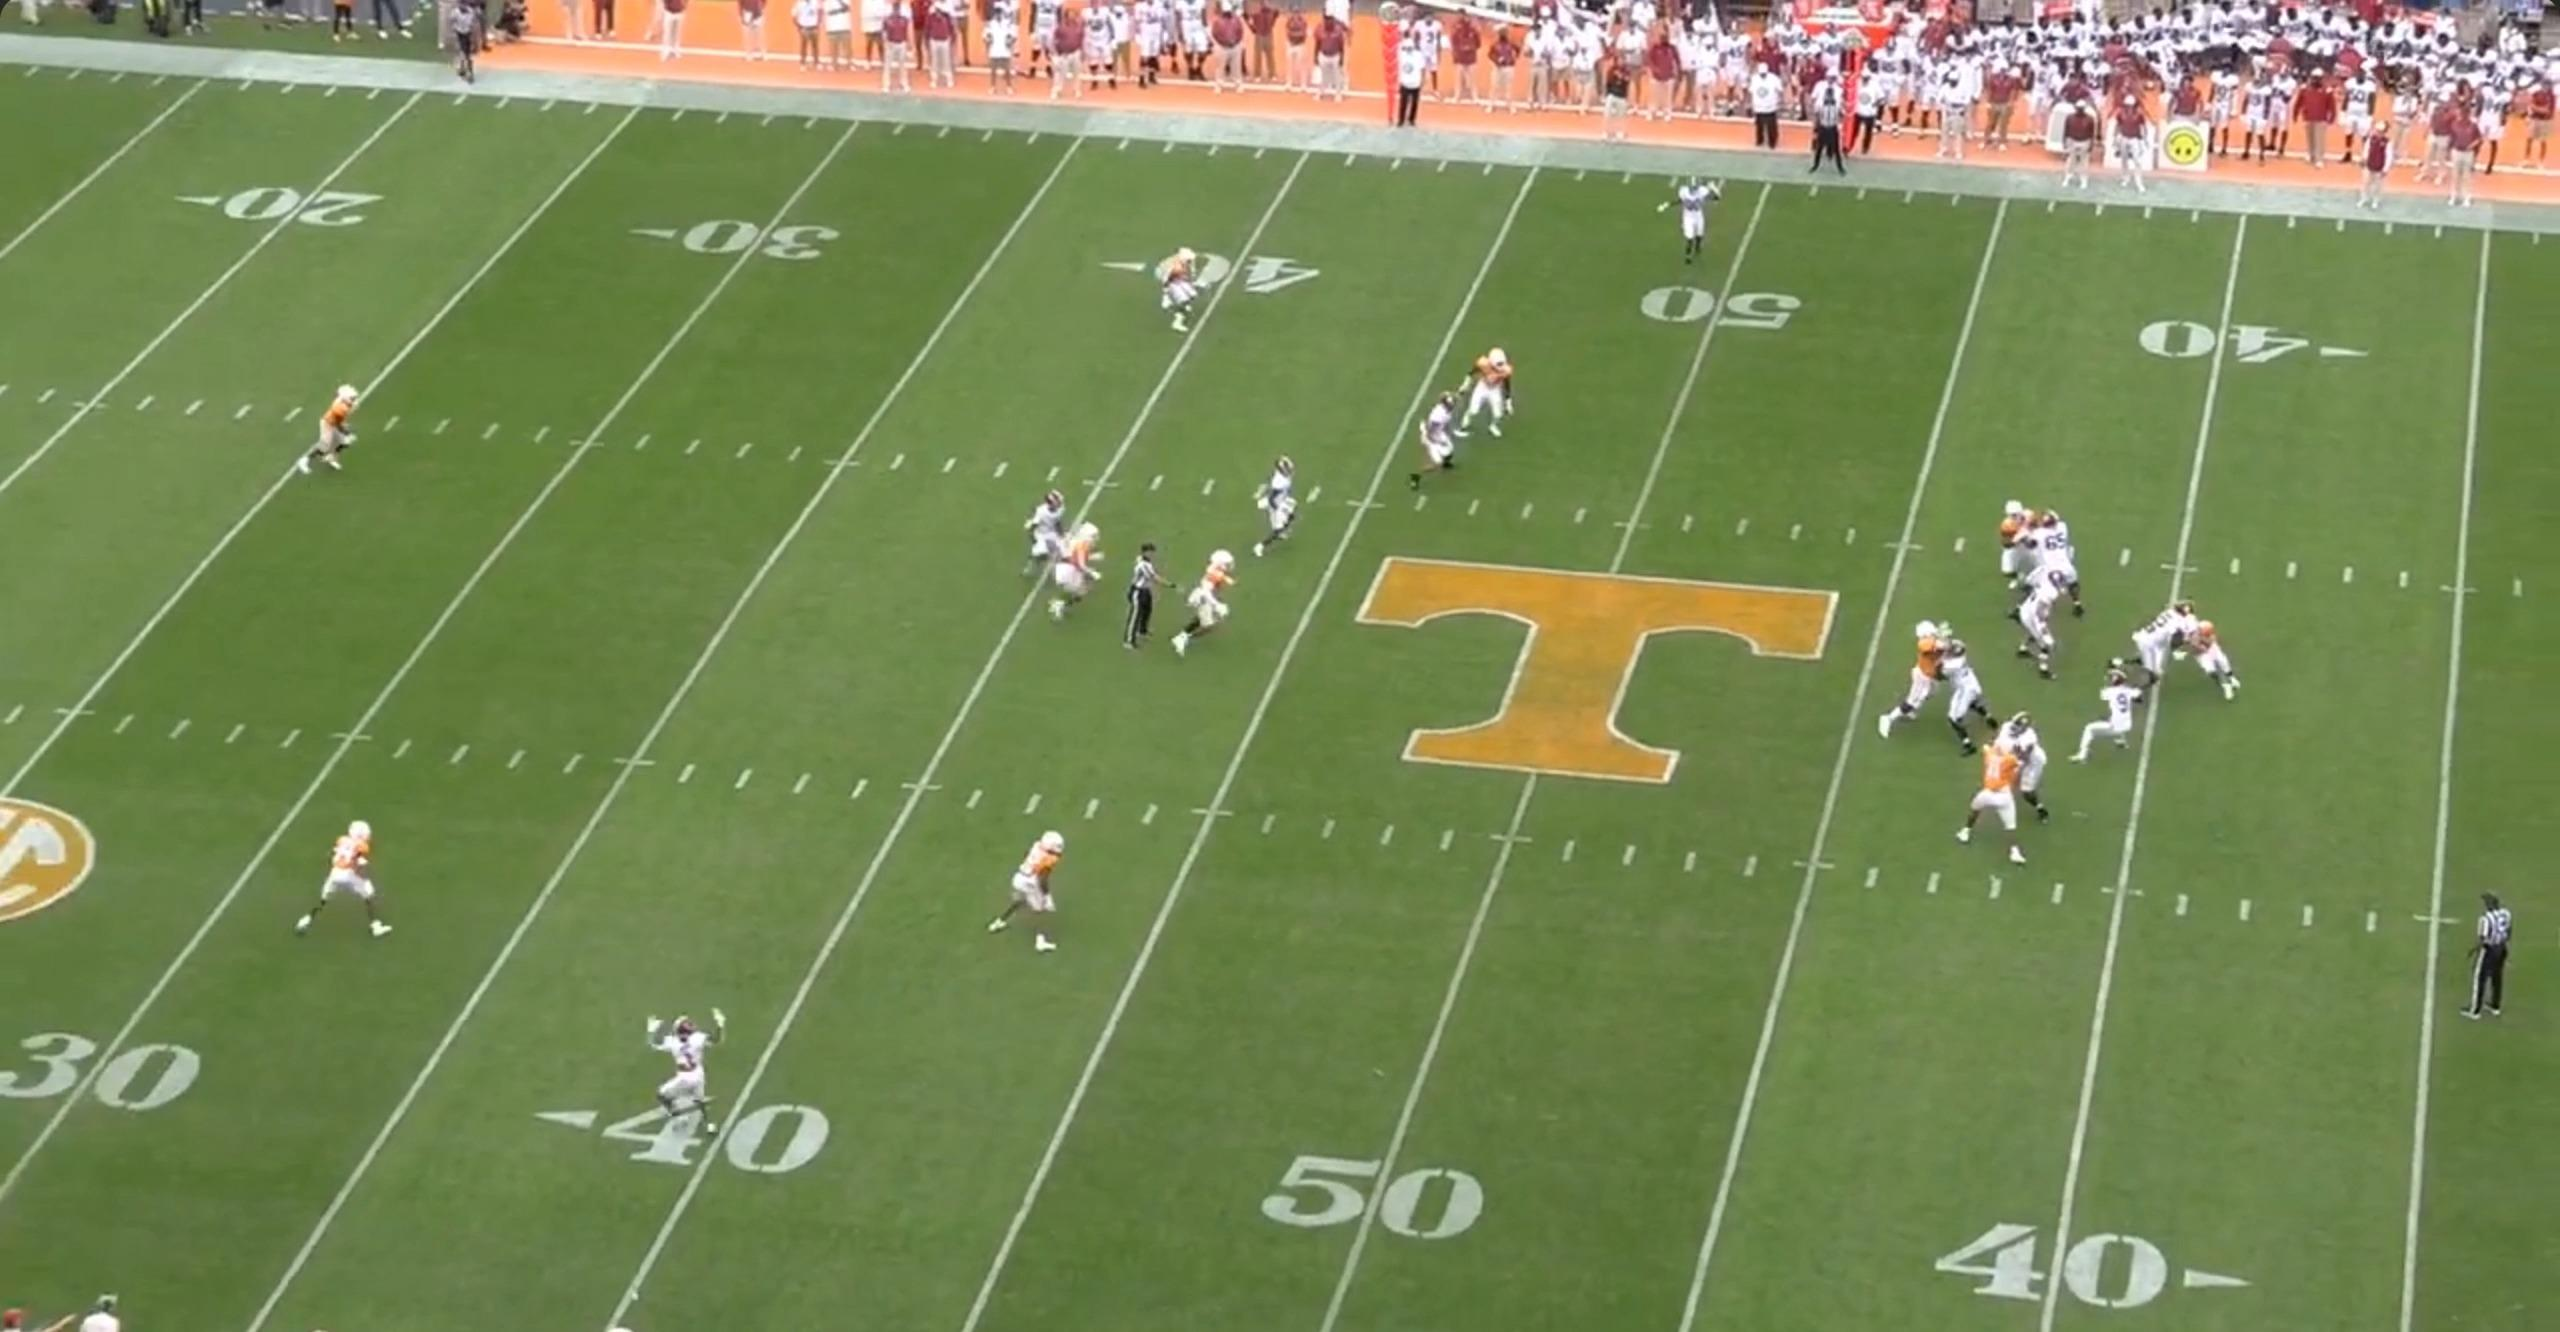player: (297, 810, 407, 943), (987, 823, 1078, 957), (653, 1015, 724, 1163), (1886, 621, 1969, 745), (1949, 734, 2021, 866), (2016, 508, 2089, 621), (1174, 553, 1242, 667), (2070, 661, 2137, 771), (2172, 607, 2242, 711), (2010, 570, 2070, 687), (293, 377, 366, 473), (1649, 170, 1718, 270), (2117, 592, 2185, 691), (1046, 520, 1108, 626), (1460, 339, 1525, 438), (1998, 713, 2054, 826), (1938, 638, 1993, 752), (1409, 391, 1470, 493), (1259, 454, 1316, 562), (1018, 491, 1069, 584), (1159, 245, 1209, 335), (1996, 500, 2039, 595)
ref: (2453, 894, 2512, 1031), (1117, 546, 1165, 666), (1793, 79, 1847, 182)
